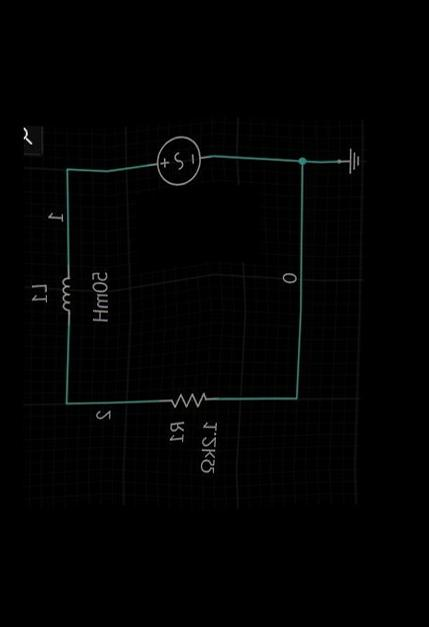Battery: (127, 107, 227, 227)
